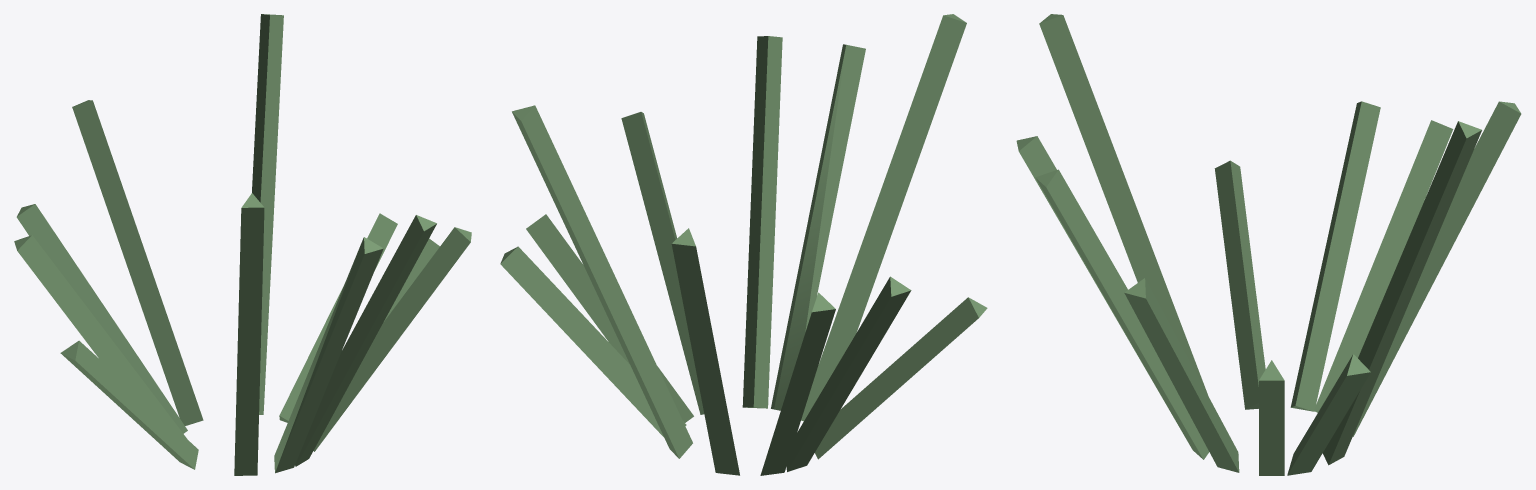
Rendered from beach.beach_grass.lod1.glb.
3 renders of one model, left to right at view 1: azimuth 30°, elevation 25°; view 2: azimuth 150°, elevation 25°; view 3: azimuth 270°, elevation 25°, orthographic. The views are drawn at different scales.
Parts seen in each view (by area): view 1: Stem.006, Stem.007, Stem.003, Stem.002, Stem.010, Stem.005, Stem.009, Stem.001, Stem.004, Stem.008, Stem; view 2: Stem.007, Stem.010, Stem.003, Stem.002, Stem.006, Stem.009, Stem.008, Stem.005, Stem.004, Stem.001, Stem; view 3: Stem.007, Stem.003, Stem.009, Stem.010, Stem.001, Stem.004, Stem.006, Stem.005, Stem.008, Stem, Stem.002.
Boxes of the visible parts, x1,y1,x2,y2 form: Stem.006: (72,100,203,425); Stem.007: (234,193,264,475); Stem.003: (252,14,283,414); Stem.002: (274,237,383,473); Stem.010: (295,215,436,466); Stem.005: (313,227,471,451); Stem.009: (14,235,186,438); Stem.001: (16,204,187,433); Stem.004: (60,340,198,469); Stem.008: (279,213,397,422); Stem: (384,238,439,321); Stem.007: (801,14,966,421); Stem.010: (742,36,782,408); Stem.003: (512,105,692,458); Stem.002: (771,44,865,410); Stem.006: (671,228,739,475); Stem.009: (786,276,911,471); Stem.008: (500,246,686,436); Stem.005: (621,112,704,414); Stem.004: (815,297,987,459); Stem.001: (760,292,835,475); Stem: (526,214,693,422); Stem.007: (1039,14,1207,394); Stem.003: (1322,121,1481,465); Stem.009: (1290,101,1380,411); Stem.010: (1035,169,1208,459); Stem.001: (1314,120,1453,412); Stem.004: (1214,160,1265,409); Stem.006: (1353,101,1521,436); Stem.005: (1124,278,1239,472); Stem.008: (1287,354,1370,475); Stem: (1259,360,1284,475); Stem.002: (1016,136,1187,441).
Bounding box in the file's own units: 0.8149 × 0.6776 × 0.8128.
